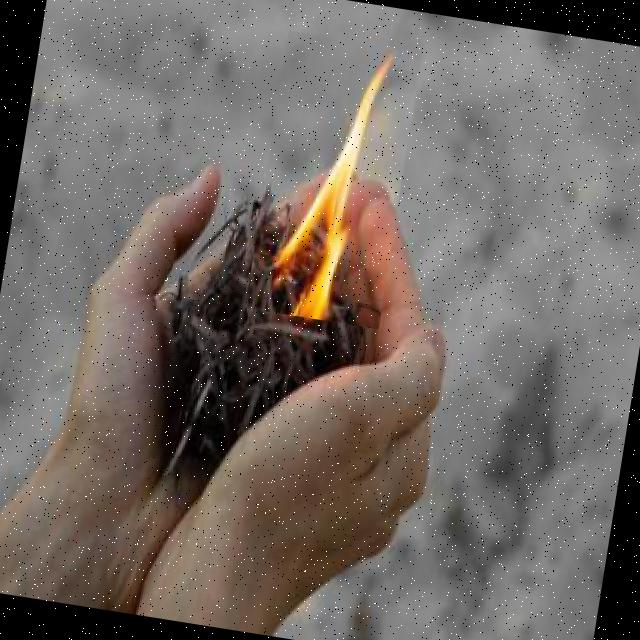fire: (245, 31, 422, 330)
